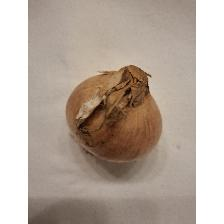Zwiebel: (63, 60, 165, 166)
